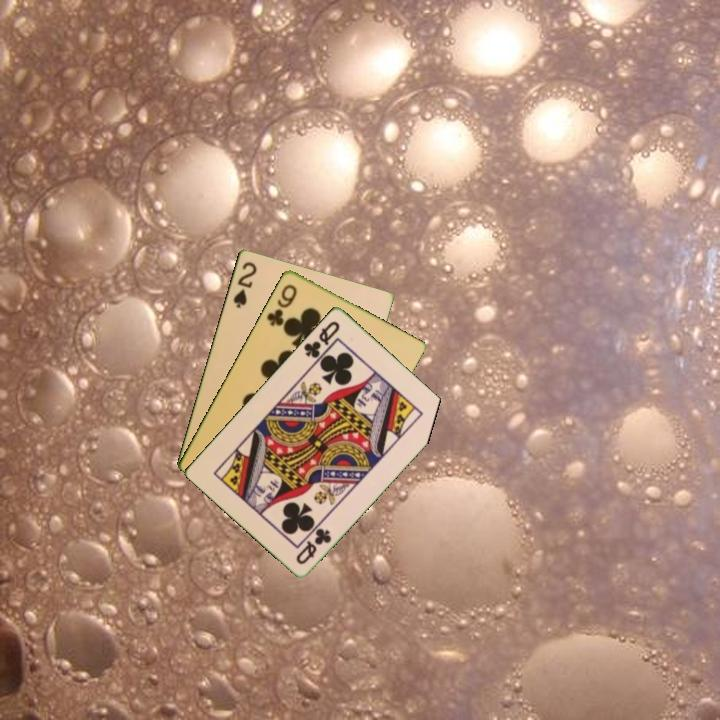2s: (229, 258, 259, 311)
9c: (263, 280, 300, 329)
Qc: (300, 317, 343, 366), (292, 524, 335, 567)
